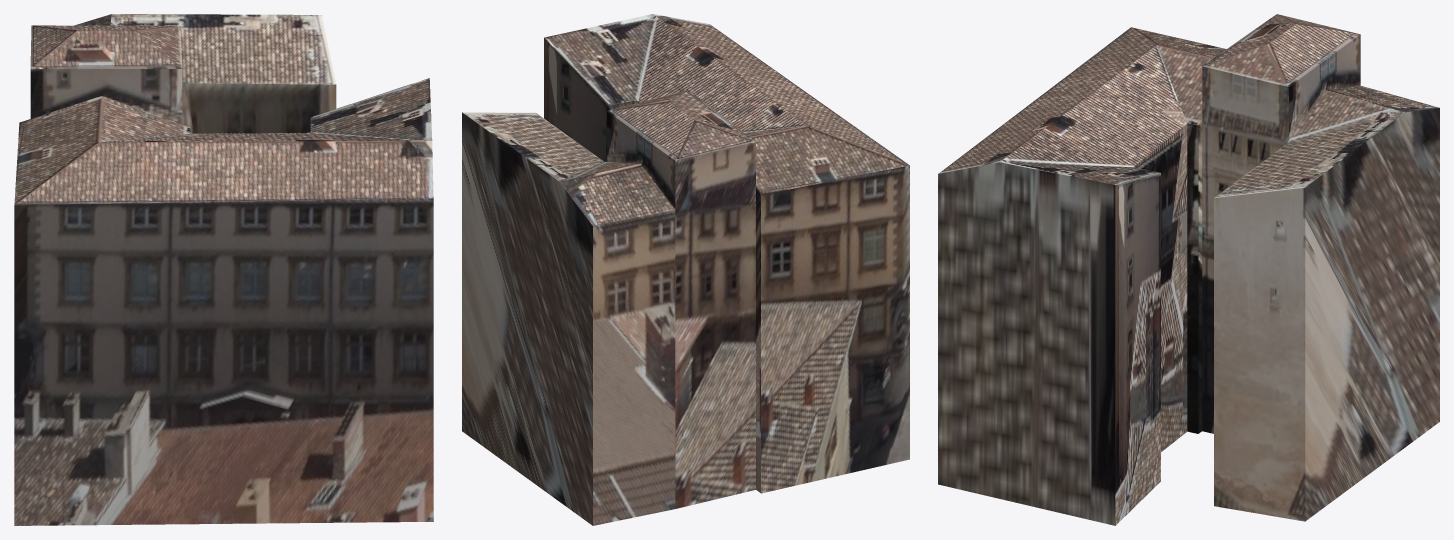
The picture shows the model from 3 angles, left to right: view 1: azimuth 30°, elevation 25°; view 2: azimuth 150°, elevation 25°; view 3: azimuth 270°, elevation 25°; orthographic projection. The views are drawn at different scales.
Parts seen in each view (by area): view 1: Z_UP; view 2: Z_UP; view 3: Z_UP.
Part boxes in pixels (x1,y1,x2,y2): Z_UP: (14,14,433,525); Z_UP: (462,14,909,525); Z_UP: (938,14,1439,525).
Size of the model in its own units: 25.17 by 23.44 by 27.98.
Materials: 2 (1 with a texture image).
